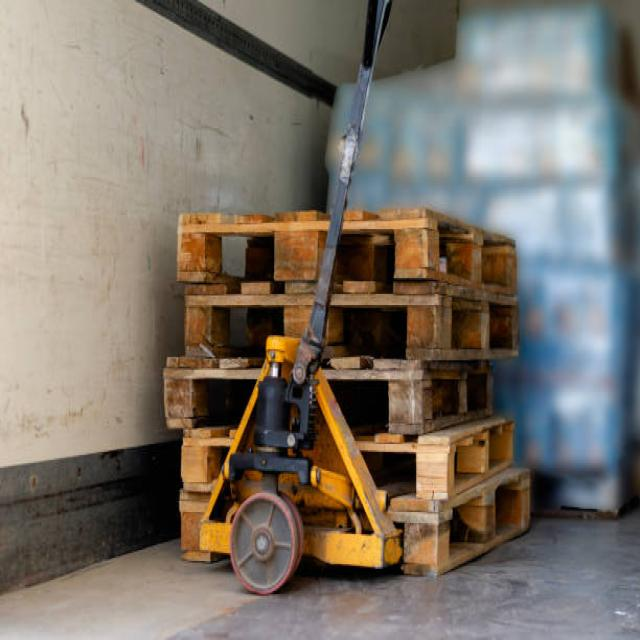Wooden-Pallets: (172, 198, 516, 295), (174, 287, 522, 359), (168, 204, 450, 287)
